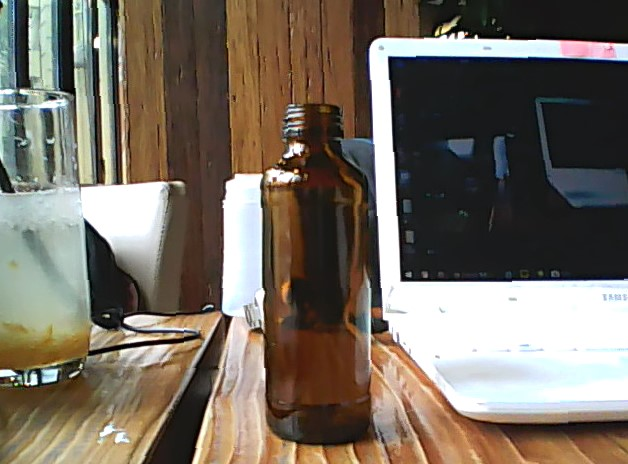Glass: (253, 96, 379, 447)
